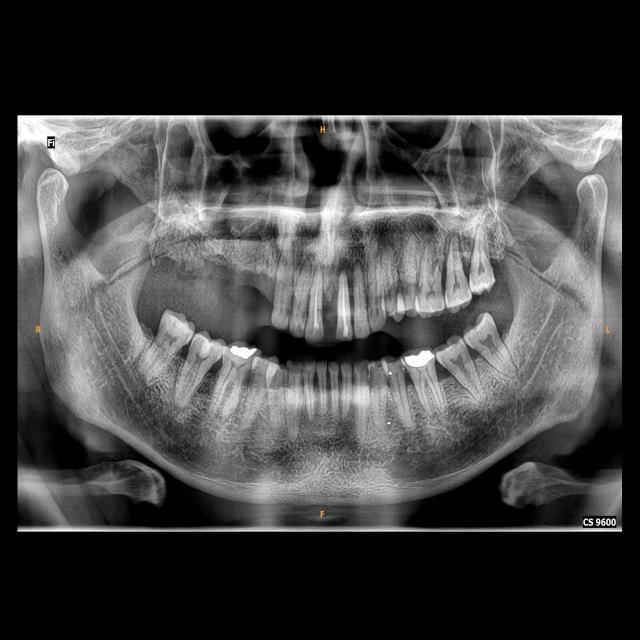dentin-curugu: (394, 276, 413, 301), (282, 288, 294, 322)
dolgu: (402, 348, 434, 374), (225, 339, 258, 364)
kanal-tedavisi: (339, 282, 351, 338), (312, 276, 322, 331)
